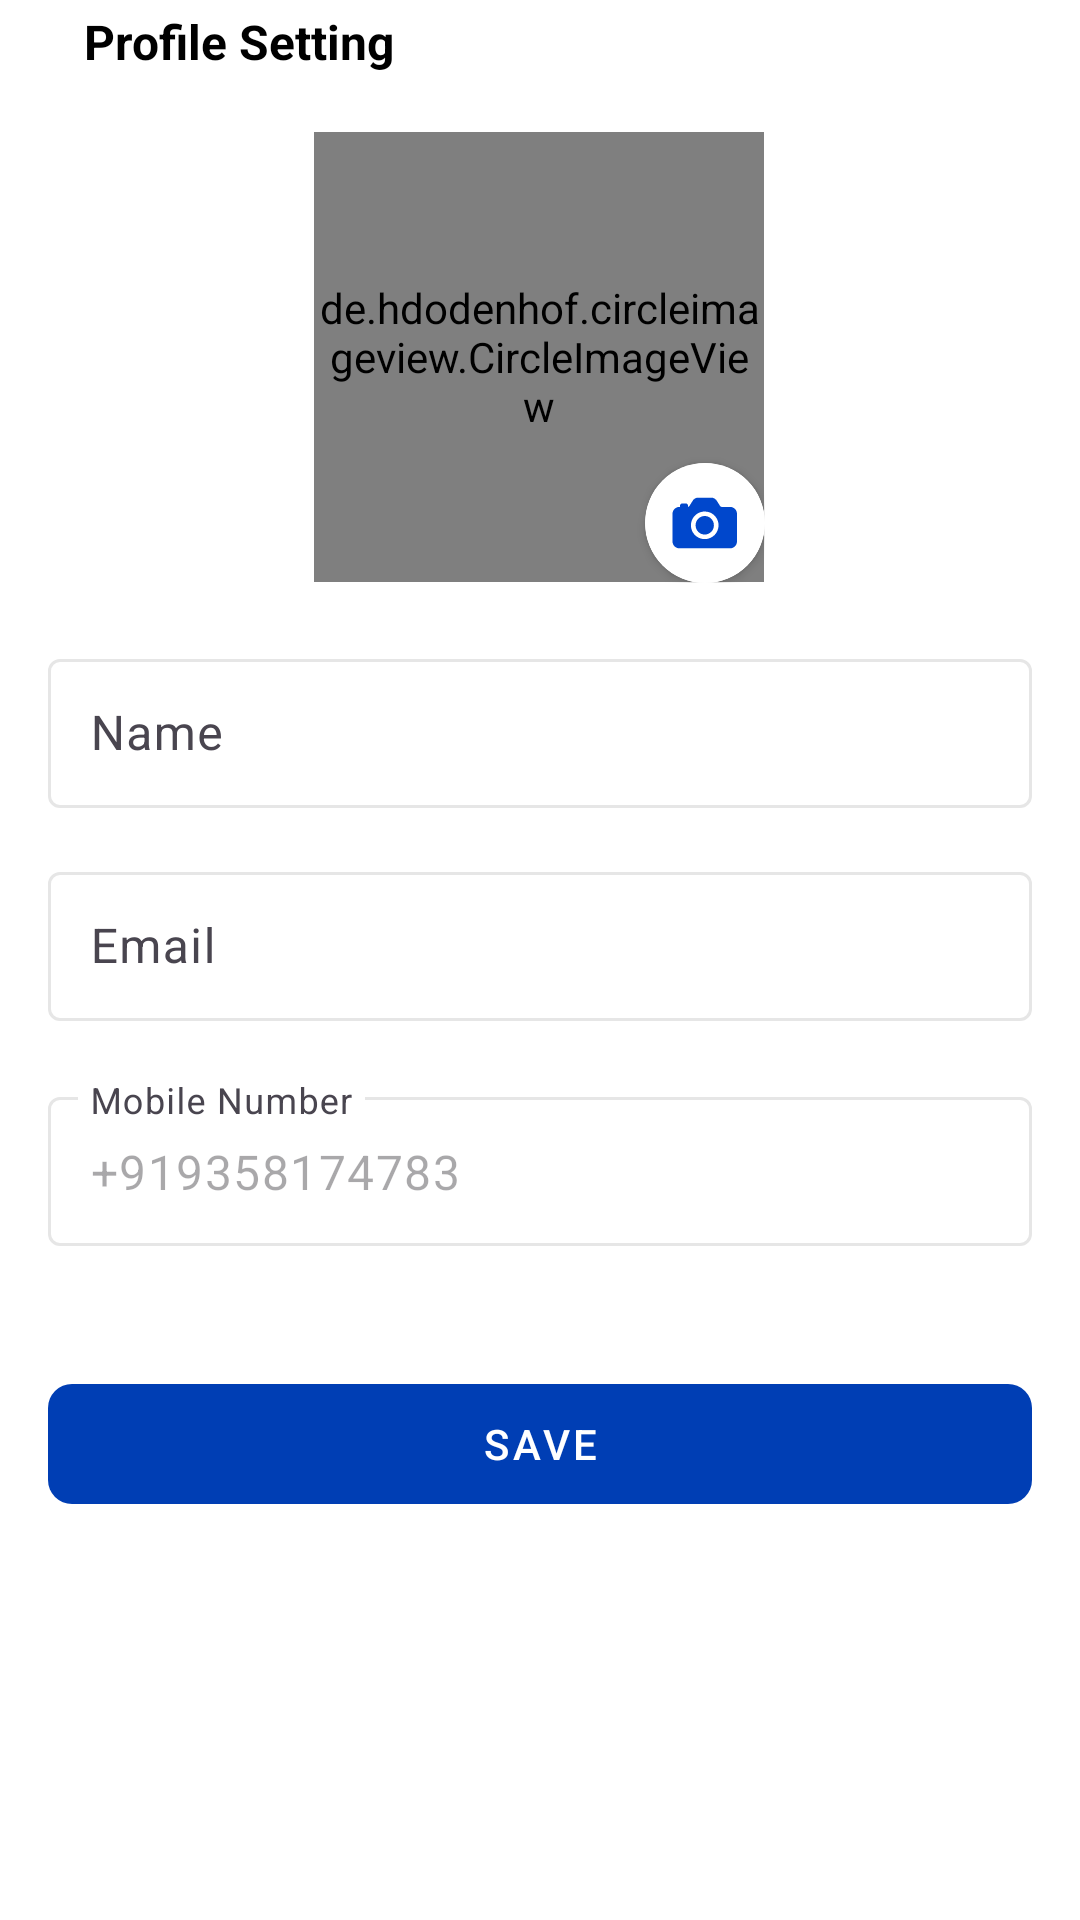

Icons on this 1080 x 1920 Android screen, each with the point to tap as (x=x, y=y):
camera: (x=705, y=523)
